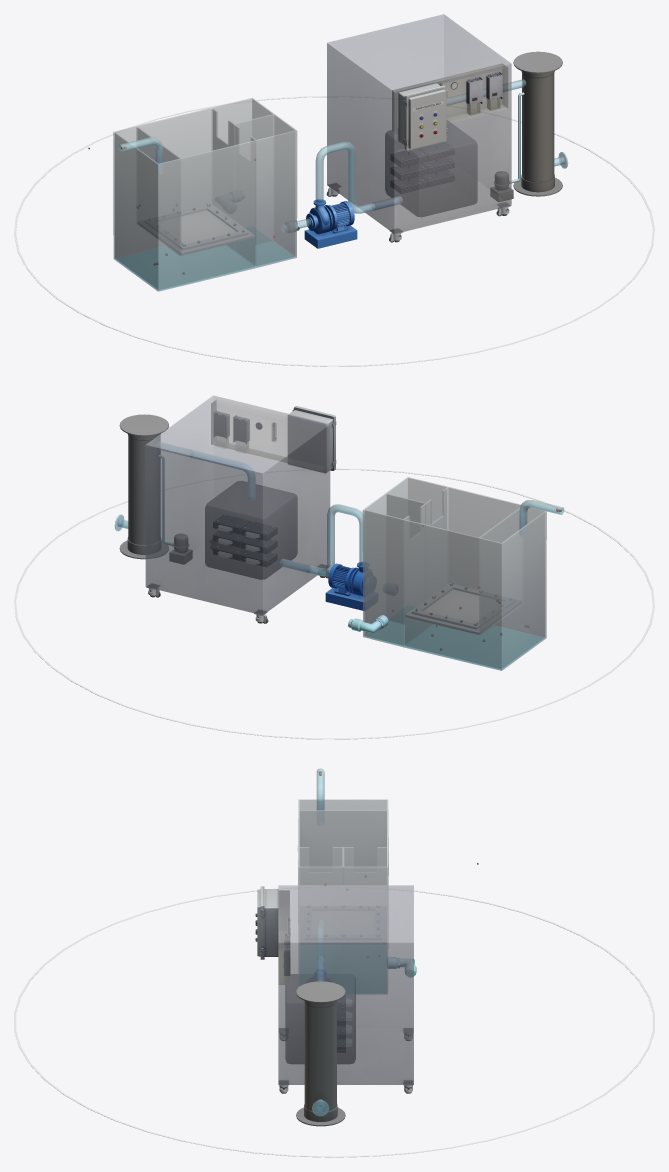
3 renders of one model, top to bottom at view 1: azimuth 30°, elevation 25°; view 2: azimuth 150°, elevation 25°; view 3: azimuth 270°, elevation 25°, orthographic.
Parts seen in each view (by area): view 1: transparent_mesh, Strainer, water_fill_01, Cylinder_01, CtrllBox, Lauter_filter, Pump, SMPS, PUMP_floor, water_fill_02, Pump_small; view 2: transparent_mesh, Strainer, water_fill_01, CtrllBox, Cylinder_01, Lauter_filter, Pump, SMPS, water_fill_02, PUMP_floor, Pump_small; view 3: transparent_mesh, Strainer, Cylinder_01, CtrllBox.
Boxes of the visible parts, left/top/right/bottom form: transparent_mesh: left=113, top=14, right=568, bottom=291; Strainer: left=513, top=51, right=562, bottom=196; water_fill_01: left=115, top=246, right=254, bottom=290; Cylinder_01: left=14, top=96, right=654, bottom=366; CtrllBox: left=398, top=83, right=446, bottom=150; Lauter_filter: left=138, top=204, right=254, bottom=255; Pump: left=306, top=199, right=354, bottom=234; SMPS: left=466, top=72, right=502, bottom=104; PUMP_floor: left=304, top=225, right=357, bottom=248; water_fill_02: left=226, top=241, right=294, bottom=266; Pump_small: left=490, top=171, right=513, bottom=201; transparent_mesh: left=114, top=395, right=564, bottom=670; Strainer: left=119, top=414, right=168, bottom=559; water_fill_01: left=405, top=625, right=544, bottom=669; CtrllBox: left=287, top=406, right=335, bottom=473; Cylinder_01: left=14, top=468, right=654, bottom=739; Lauter_filter: left=405, top=583, right=521, bottom=634; Pump: left=328, top=562, right=364, bottom=596; SMPS: left=213, top=410, right=249, bottom=443; water_fill_02: left=365, top=620, right=433, bottom=646; PUMP_floor: left=325, top=588, right=364, bottom=610; Pump_small: left=169, top=534, right=192, bottom=564; transparent_mesh: left=278, top=768, right=413, bottom=1116; Strainer: left=296, top=981, right=345, bottom=1126; Cylinder_01: left=14, top=887, right=654, bottom=1157; CtrllBox: left=257, top=886, right=278, bottom=959.
Bounding box in the file's own units: 12.64 × 3.34 × 12.62.
Materials: 7 (2 with a texture image).
